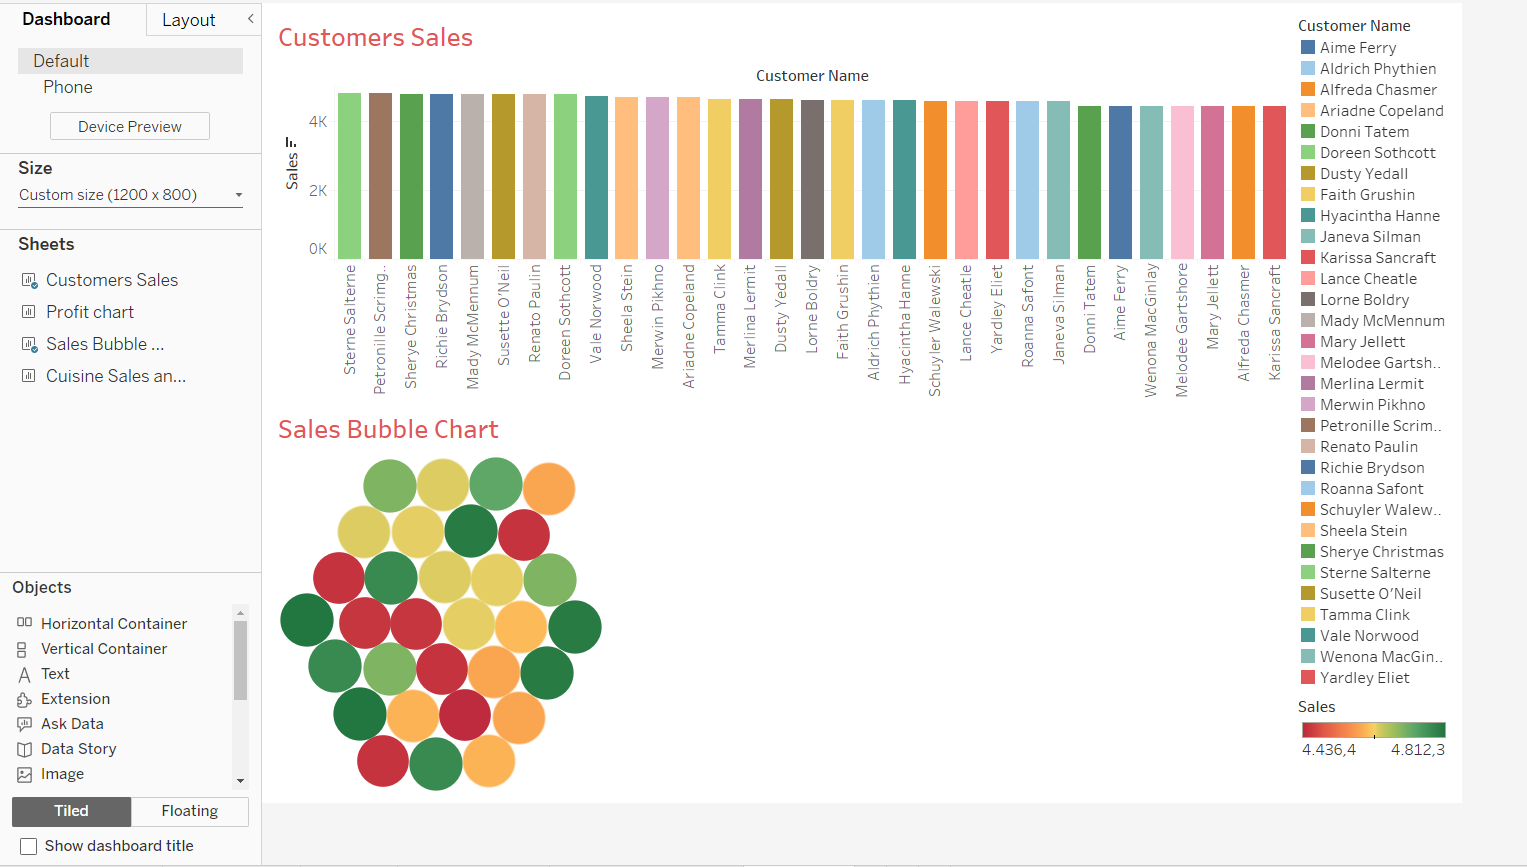

The dashboard page shown, as its layout file describes it:
{"tool":"tableau","page":{"name":"Dashboard","canvas":[1200,800],"ordinal":0},"visuals":[{"type":"worksheet","title":"Customers Sales","mark":"Automatic","rows":["Sales"],"cols":["Customer Name"],"box":[8,8,1024,392]},{"type":"legend","title":"Customers Sales","param":"[federated.03iwc681hd5tpr1clsi051guxlsy].[none:Customer Name:nk]","box":[1032,8,160,681]},{"type":"worksheet","title":"Sales Bubble Chart","mark":"Circle","box":[8,400,1024,392]},{"type":"legend","title":"Sales Bubble Chart","param":"[federated.03iwc681hd5tpr1clsi051guxlsy].[sum:Sales:qk]","box":[1032,689,160,73]}]}

Visuals, with their boxes on the page's 1200x800 design canvas (x1, y1, x2, y2). These are canvas units, not pixel positions in the 1527x867 screenshot, which may show the page scaled, cropped or inside an application window:
"Customers Sales" worksheet: (8,8,1032,400)
"Customers Sales" legend: (1032,8,1192,689)
"Sales Bubble Chart" worksheet (Circle marks): (8,400,1032,792)
"Sales Bubble Chart" legend: (1032,689,1192,762)
